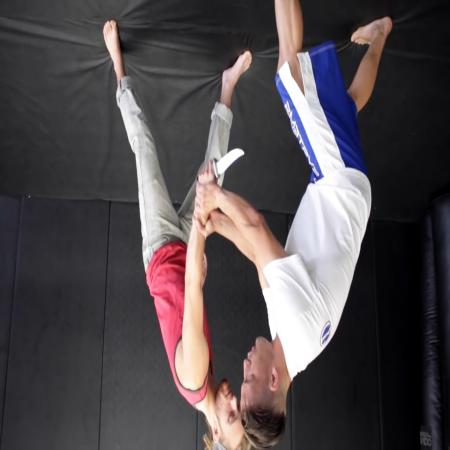long weapon: (196, 144, 247, 184)
